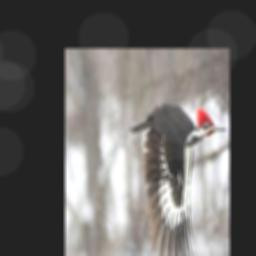Woodpecker: (129, 105, 227, 256)
